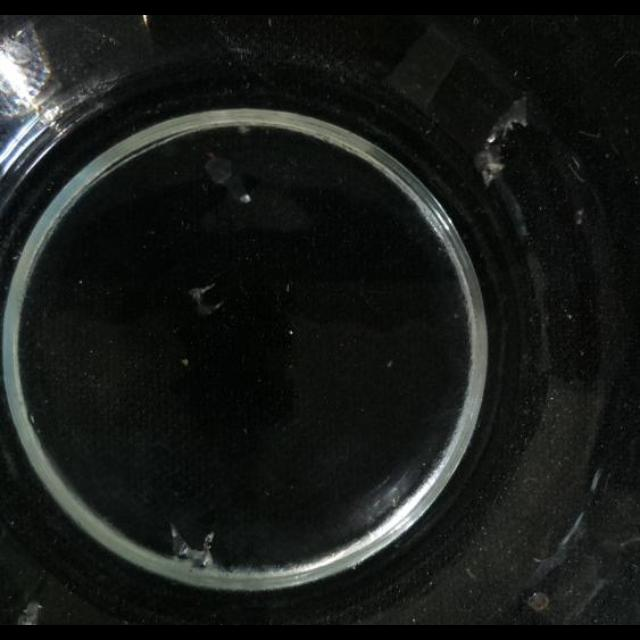Fibre: (476, 97, 526, 183), (170, 522, 216, 568), (189, 282, 223, 316), (474, 148, 504, 186), (17, 600, 43, 624), (574, 208, 584, 226)
microbeads: (285, 283, 291, 293)
